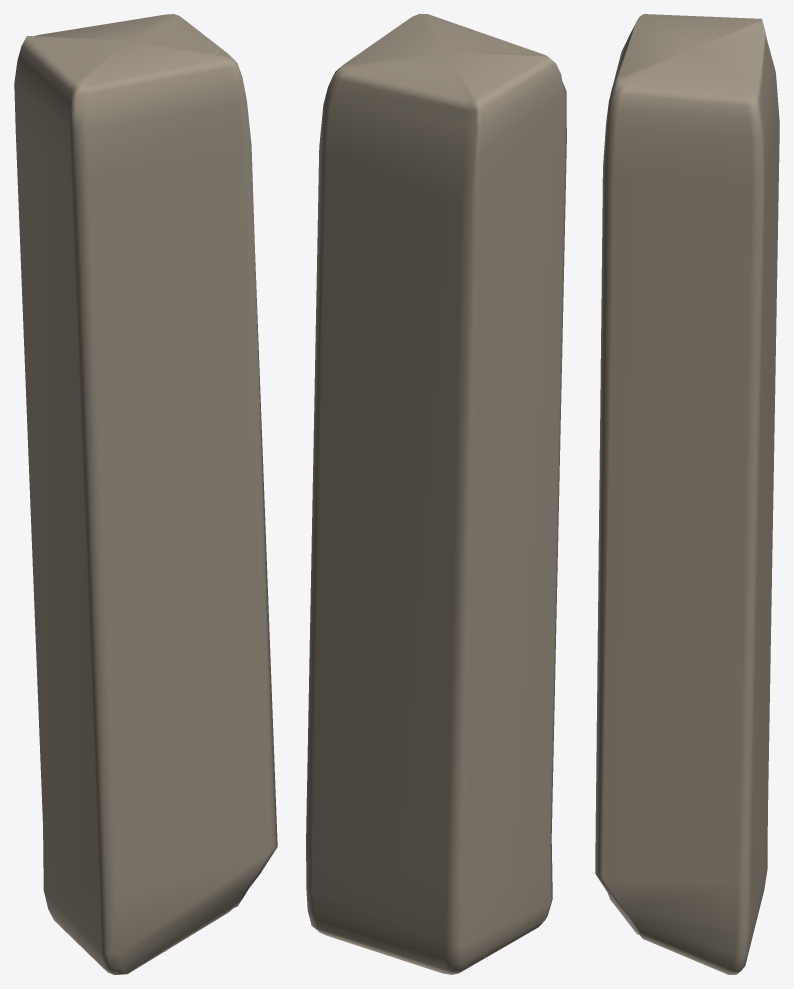
The model's file is boundary.dry_stone.stoop_a.glb.
3 renders of one model, left to right at view 1: azimuth 30°, elevation 25°; view 2: azimuth 150°, elevation 25°; view 3: azimuth 270°, elevation 25°, orthographic.
Parts seen in each view (by area): view 1: main__stone_a98; view 2: main__stone_a98; view 3: main__stone_a98.
Boxes of the visible parts, x1,y1,x2,y2 form: main__stone_a98: (14, 14, 277, 974); main__stone_a98: (306, 14, 566, 974); main__stone_a98: (595, 14, 779, 974).
Size of the model in its own units: 0.4536 by 1.9 by 0.3616.
